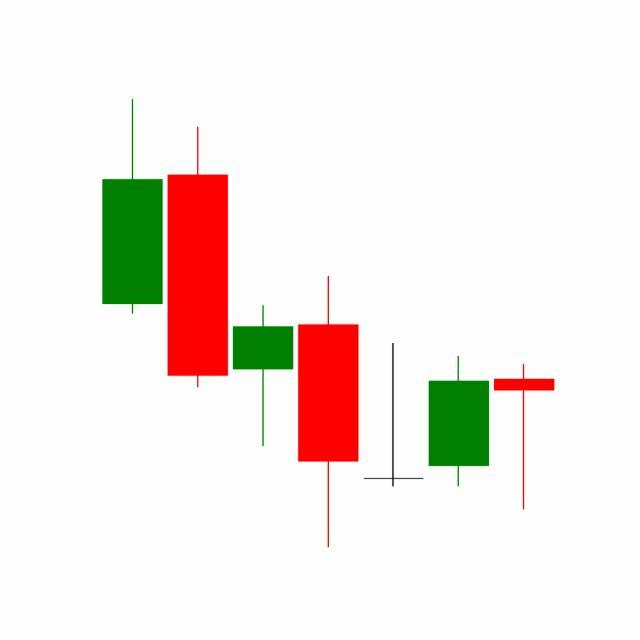Morning Doji Star: (295, 272, 492, 549)
